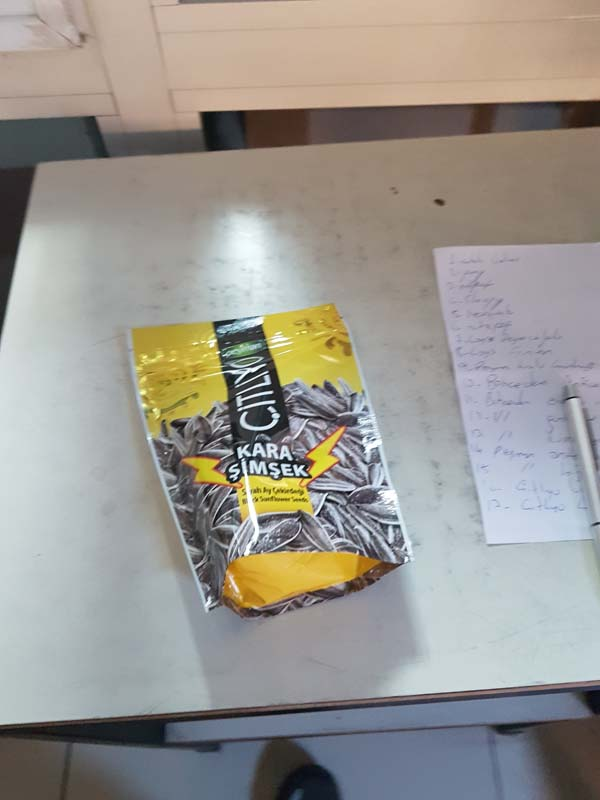citliyokarasimsek: (121, 300, 420, 623)
